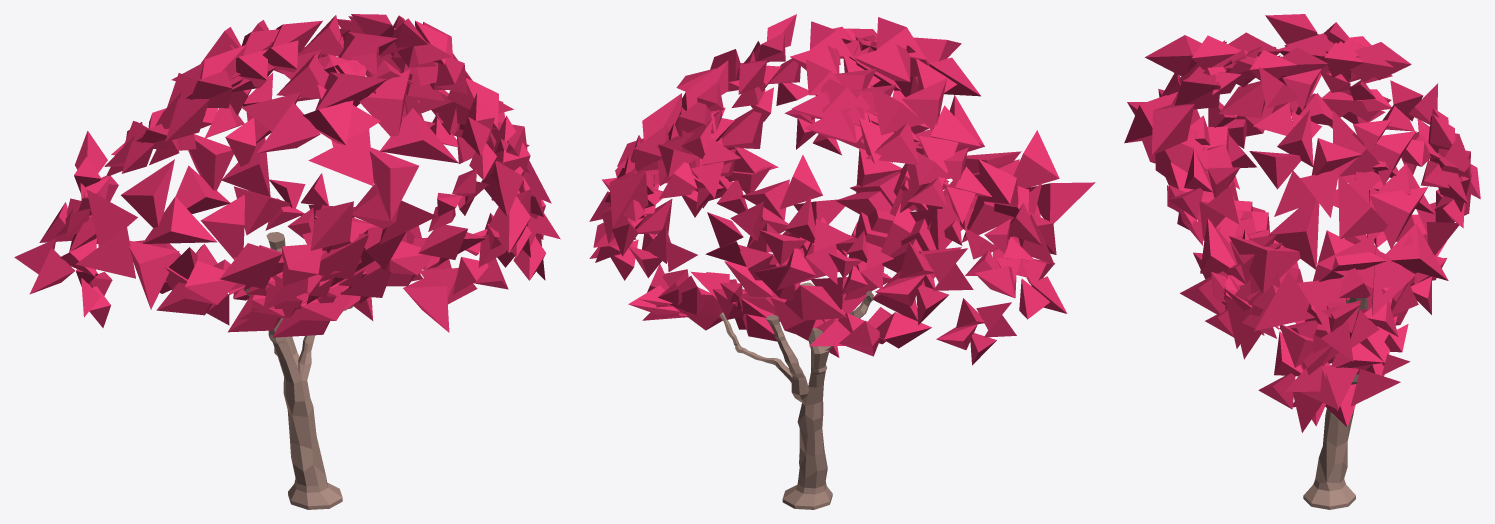
The model's file is Cherry Tree (Lowmance Competition) Option 2 Export Sketch fab.glb.
3 views of the same model, side by side, from view 1: azimuth 30°, elevation 25°; view 2: azimuth 150°, elevation 25°; view 3: azimuth 270°, elevation 25° (orthographic). The views are drawn at different scales.
Parts seen in each view (by area): view 1: LEaf.008, Tree Base; view 2: LEaf.008, Tree Base; view 3: LEaf.008, Tree Base.
Part boxes in pixels (left/top/right/bottom): LEaf.008: left=14, top=14, right=560, bottom=337; Tree Base: left=243, top=232, right=353, bottom=509; LEaf.008: left=589, top=14, right=1095, bottom=365; Tree Base: left=719, top=282, right=873, bottom=509; LEaf.008: left=1124, top=14, right=1480, bottom=432; Tree Base: left=1303, top=277, right=1371, bottom=509.
Size of the model in its own units: 8.3 by 7.5 by 5.33.
